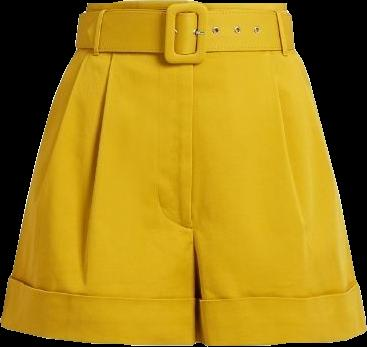Hemline: (0, 321, 196, 346), (198, 328, 366, 346)
Pantleg: (0, 0, 196, 345), (190, 0, 366, 346)
Waistline: (73, 45, 294, 56), (84, 6, 288, 14)
